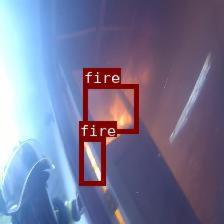fire: (83, 83, 137, 133), (79, 136, 104, 185)
